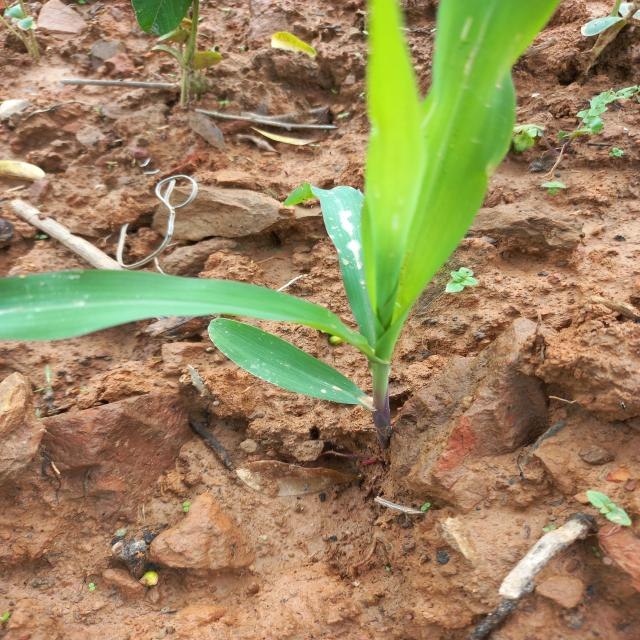maize: (0, 98, 476, 424)
weed: (128, 0, 265, 99), (538, 80, 636, 182)
